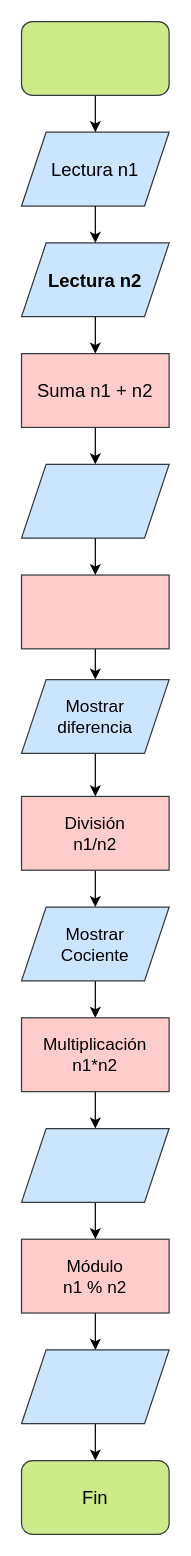
Image size: 191x1556. Some labels were removed from this diagram. Here are the shapes that lost their labels. From the top down, the centre of each, then its label:
(x=94, y=57): Inicio
(x=94, y=500): Mostrar suma
(x=94, y=611): Diferencia n1 - n2
(x=94, y=1164): Mostrar producto
(x=94, y=1386): Mostrar reciduo
